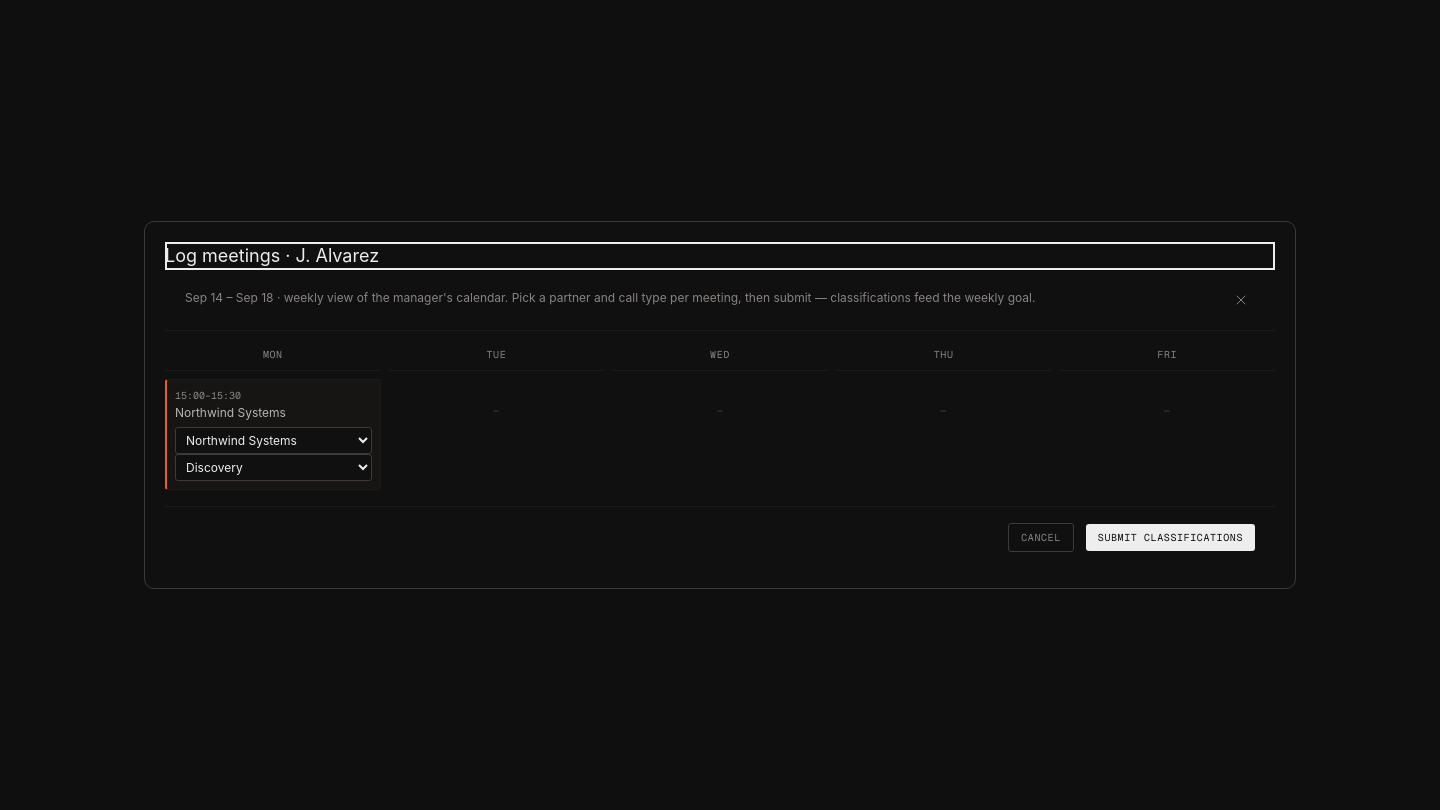
Test: MeetingLogModal › with unsubmitted work › asks before discarding on Cancel
The width and height of the screenshot is (1440, 810).
Click the button "Cancel" at [1041, 538], box x1=1008 y1=523 x2=1074 y2=552
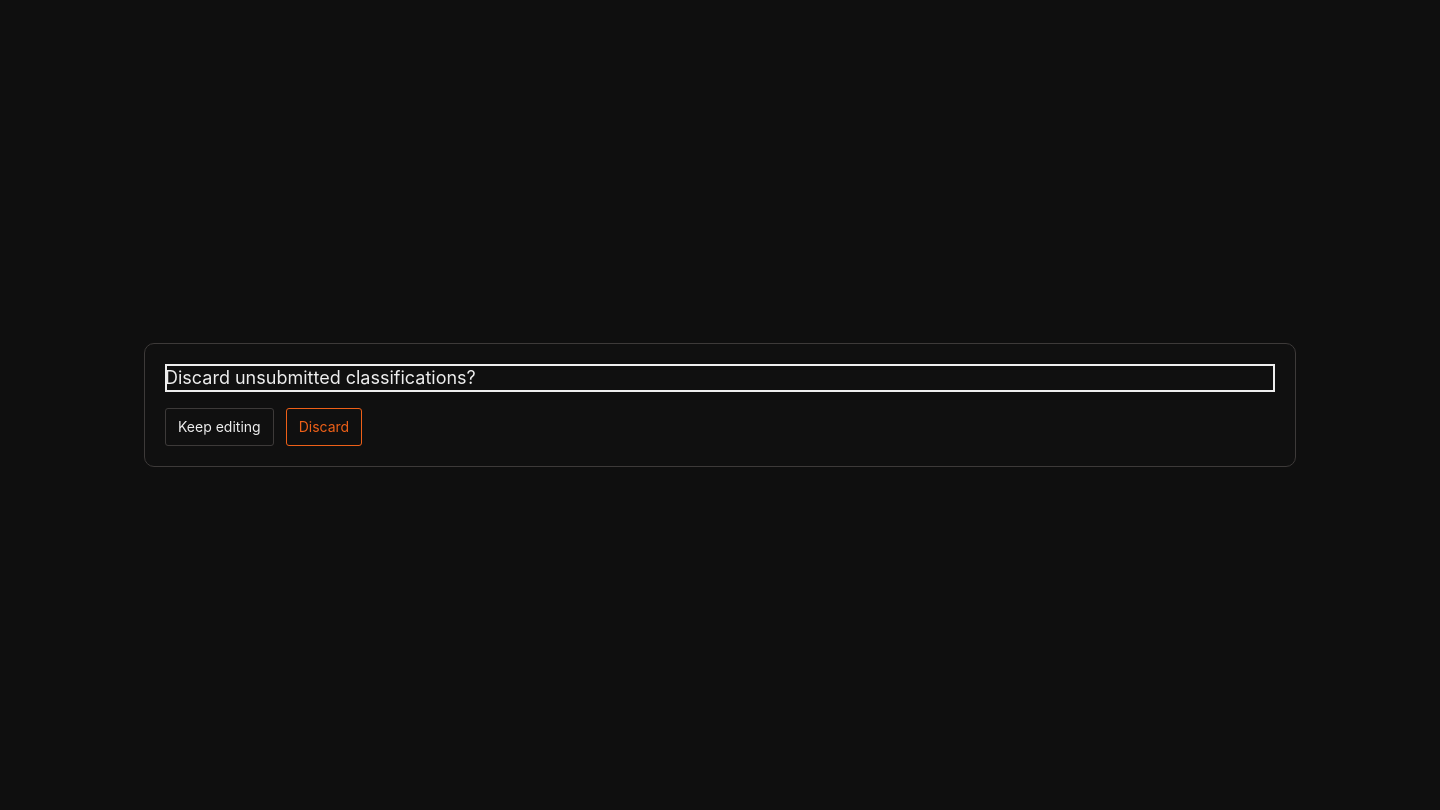
Now the heading "Discard unsubmitted classifications?" is shown, box x1=165 y1=367 x2=476 y2=388
